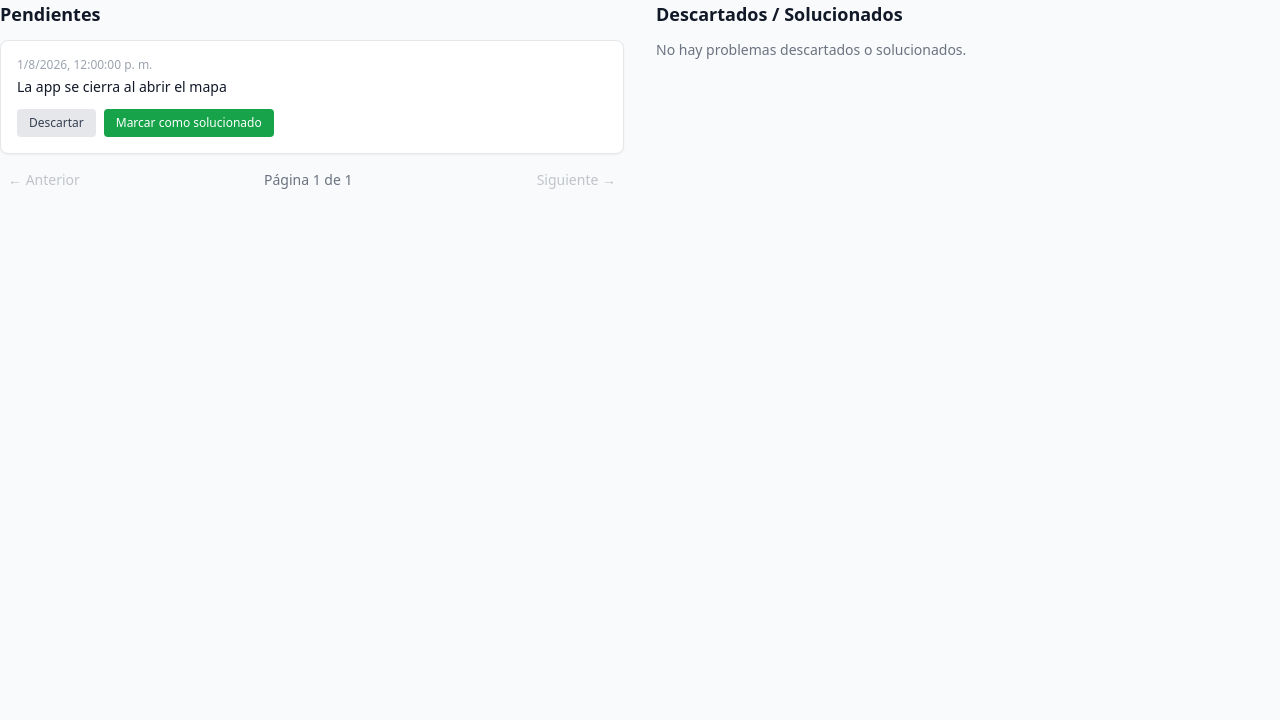
Test: ProblemasReportadosPage › descartar un pendiente lo mueve a la lista de resueltos con su justificación
Click the button "Descartar" at (56, 123), box x1=17 y1=109 x2=96 y2=137
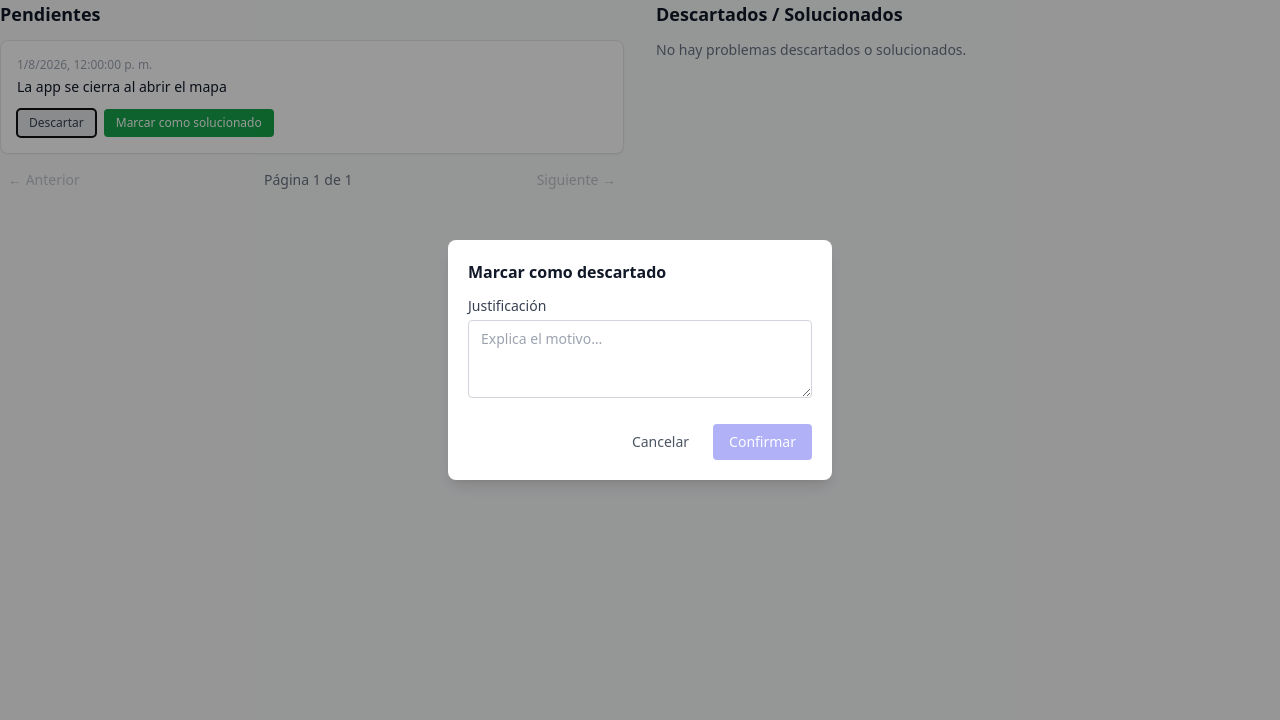
Type "Ya resuelto en otra versión" into the text box with placeholder "Explica el motivo…" at (640, 359), box x1=468 y1=320 x2=812 y2=398
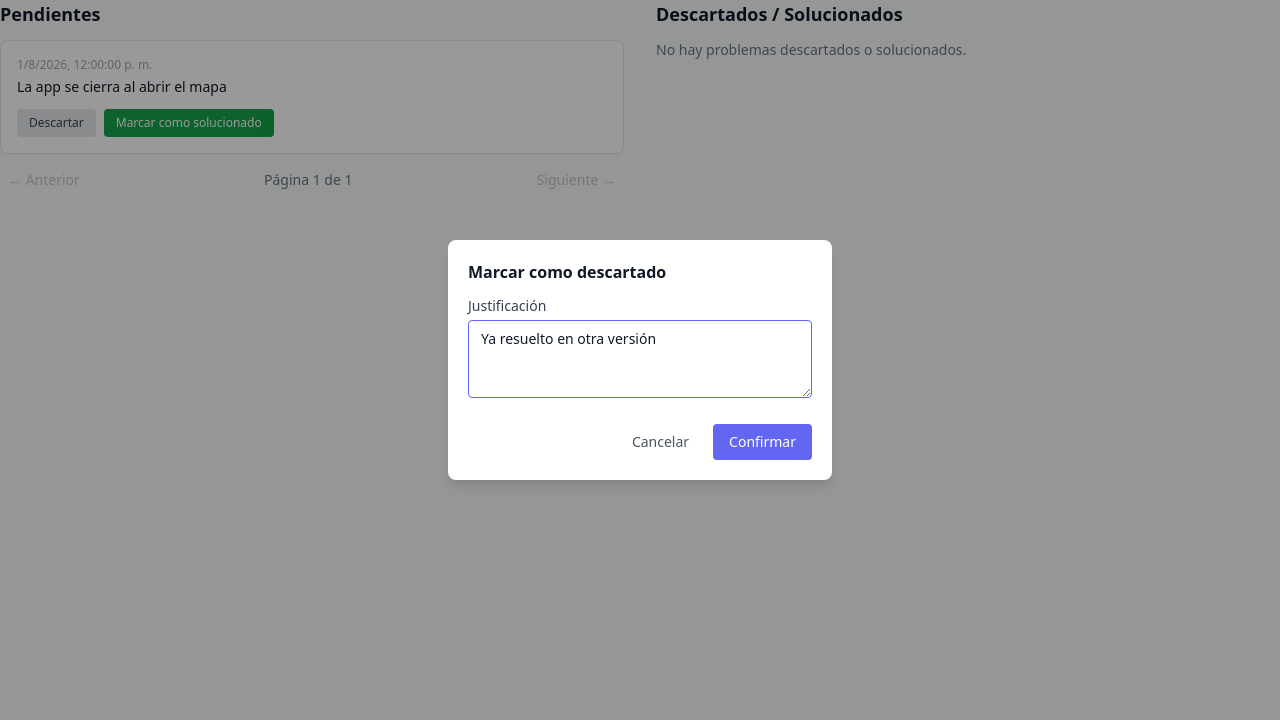
Click the button "Confirmar" at (763, 442), box x1=713 y1=424 x2=812 y2=460
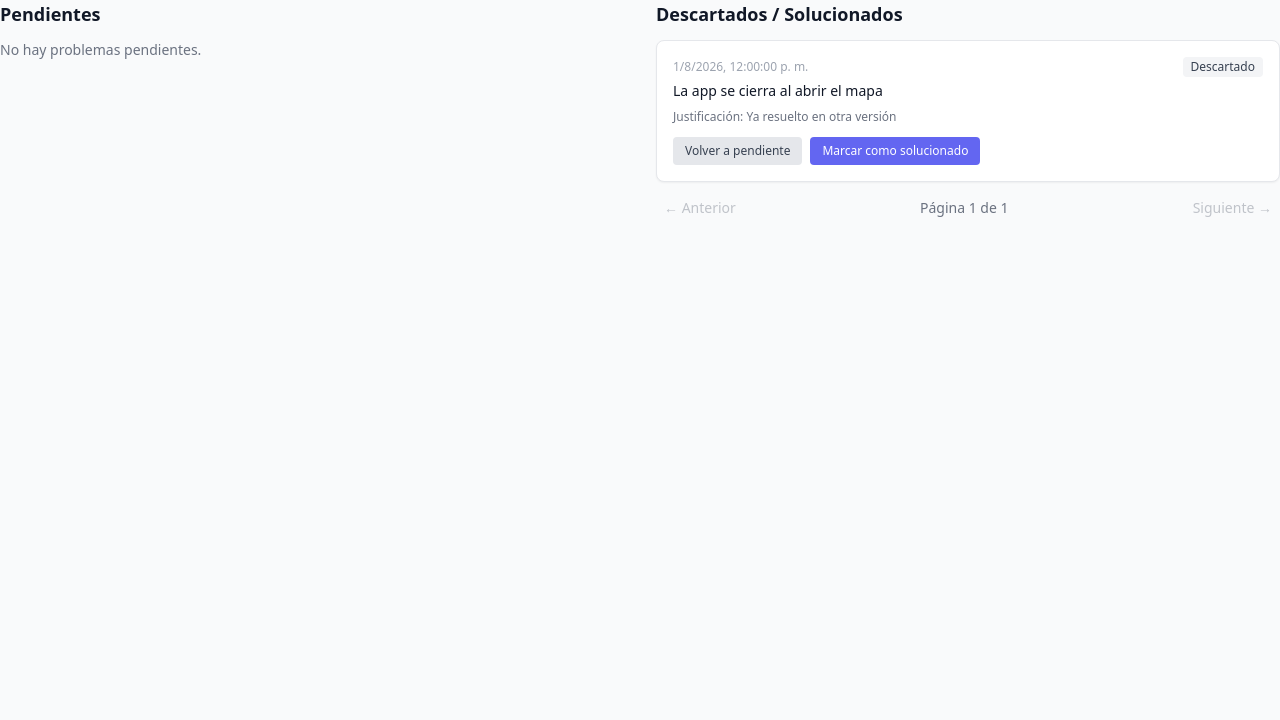
Expected: the text "Descartado" is shown, x1=1183 y1=57 x2=1263 y2=77
Now the text "No hay problemas pendientes." is shown, box x1=0 y1=40 x2=201 y2=59
Now the text "Justificación: Ya resuelto en otra versión" is shown, box x1=673 y1=108 x2=896 y2=125
